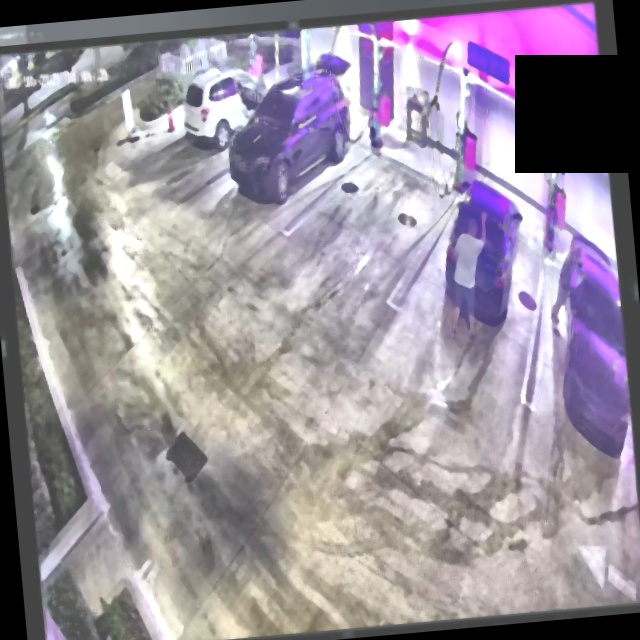Car: (222, 68, 359, 206), (438, 177, 533, 331), (180, 62, 281, 146)
